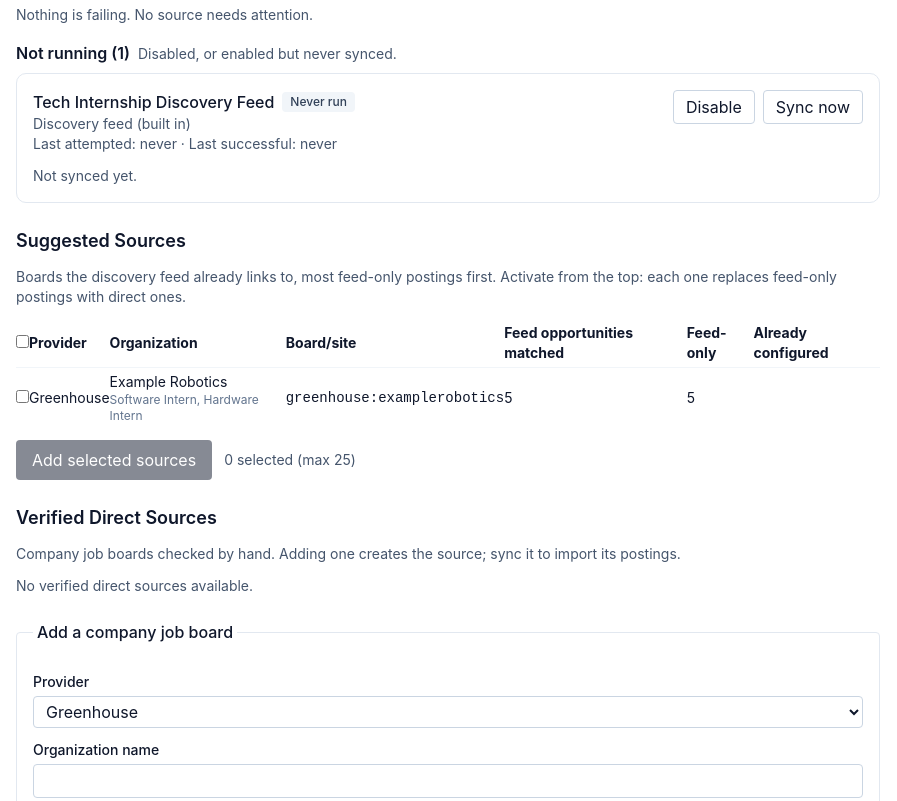
Test: source coverage › sends only kind, identifier, and region per selection, then refreshes
This screenshot has width=897, height=801.
(page scrolled)
Click the checkbox named "Select greenhouse:examplerobotics": (22, 396) [16,390,29,403]
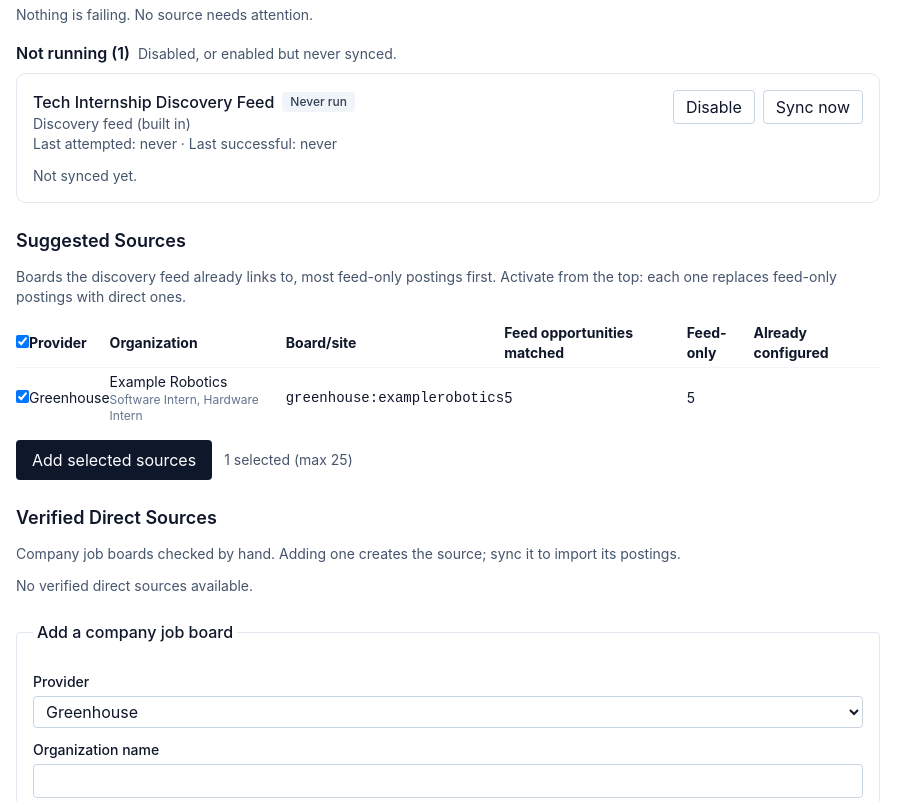
Click the button "Add selected sources": (114, 460) [16,440,212,480]
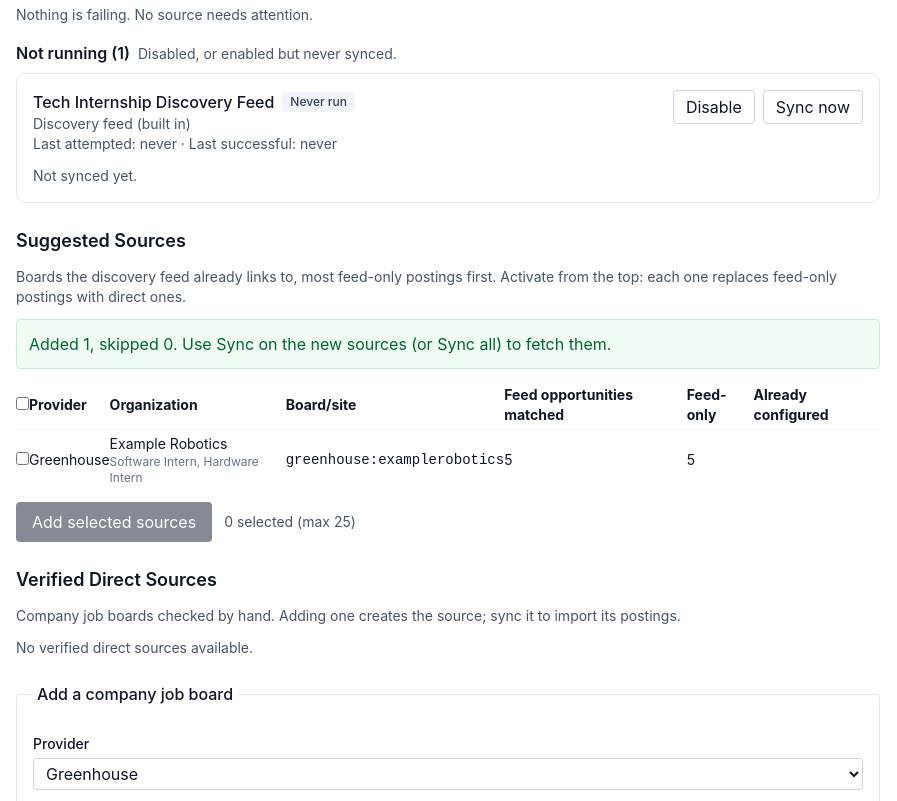
Check: the text "Added 1, skipped 0. Use Sync on the new sources (or Sync all) to fetch them." is shown, box [16,319,880,369]
Check: the text "0 selected (max 25)" is shown, box [224,512,356,532]
